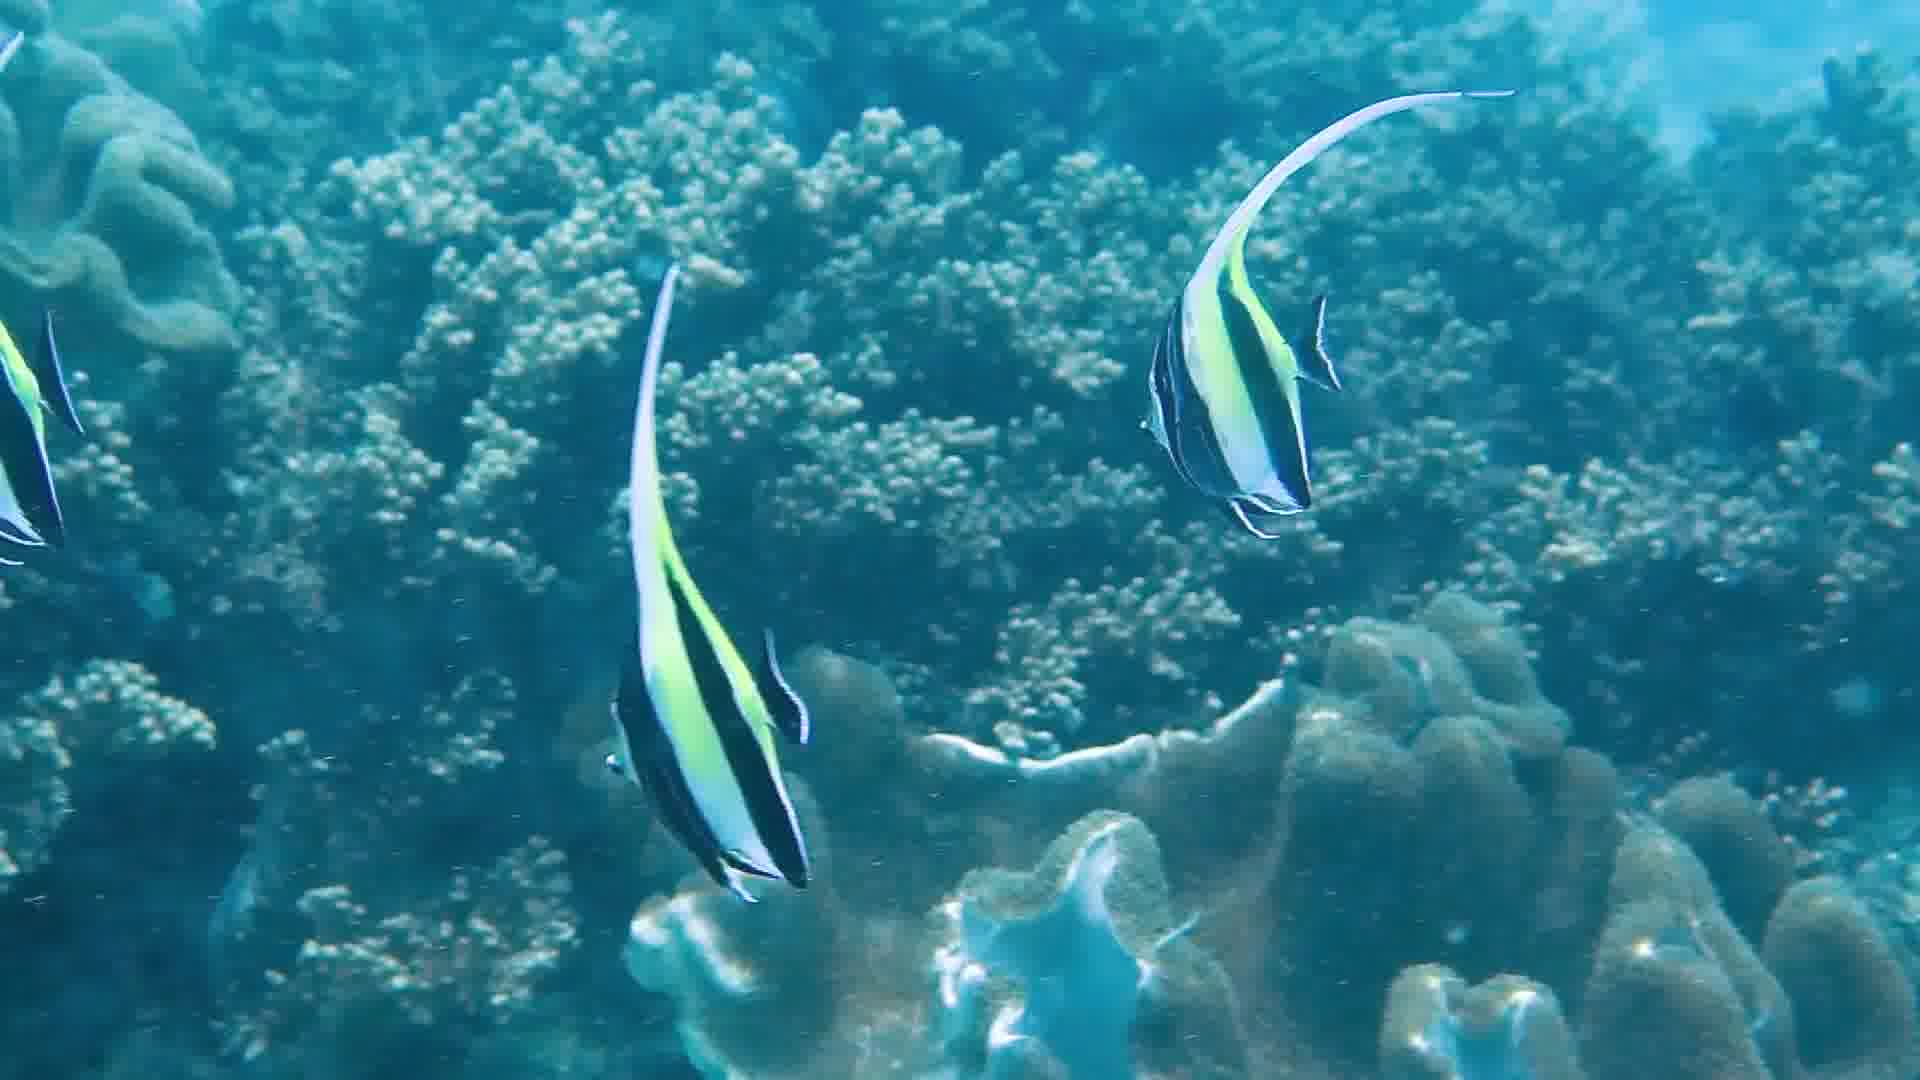Zanclus cornutus: (547, 477, 868, 915), (1097, 141, 1418, 578)
